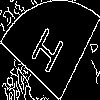H: (25, 25, 66, 84)
